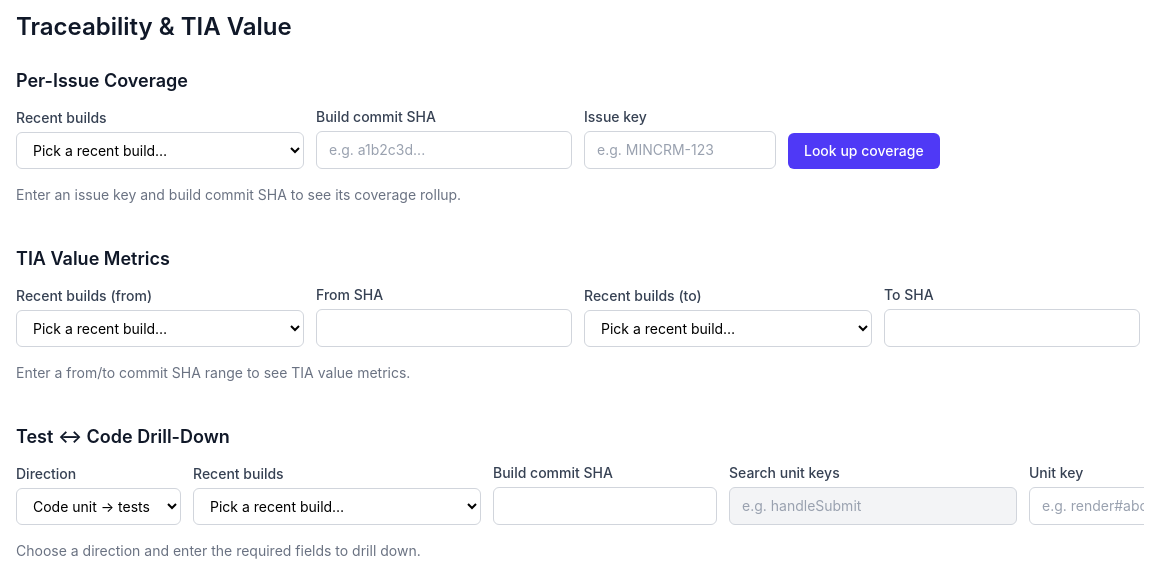
TraceabilityPage — issue coverage › populates the commit-SHA input from the recent-builds dropdown
Step 1. Select "abc123 — 1/1/2026 — 80.0%" in the dropdown with test id "issue-recent-build-select" → [160, 150], box [16, 132, 304, 169]
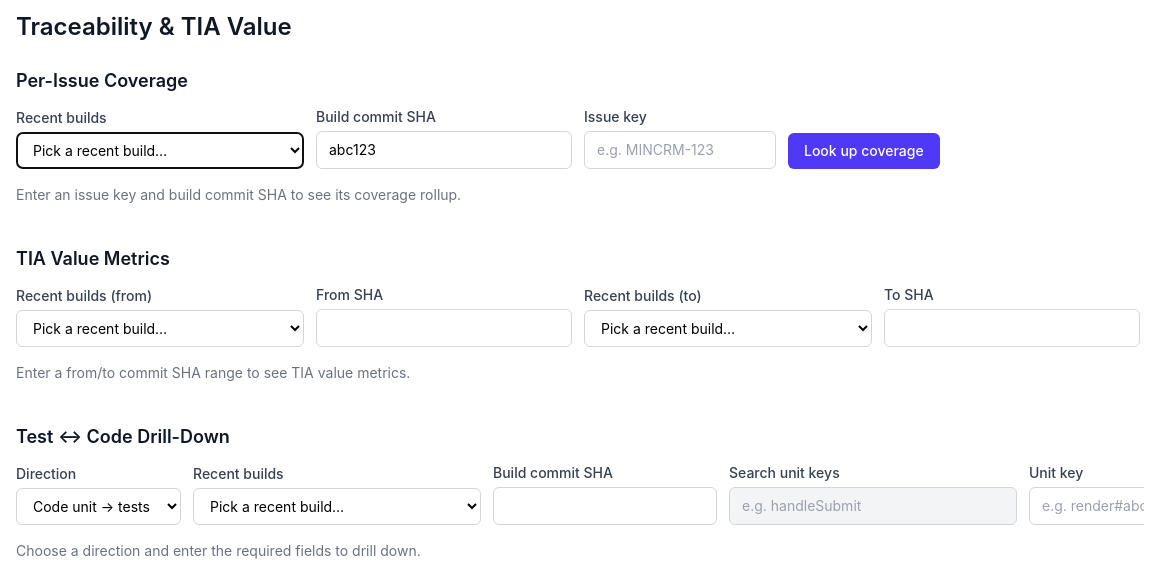
Result: the field with test id "issue-commit-sha-input" holds "abc123" at [316, 131, 572, 169]
